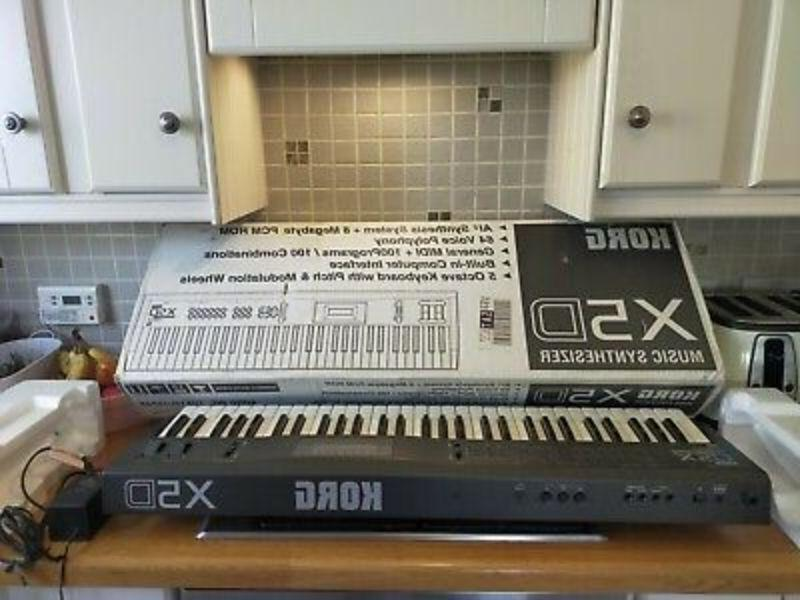synthesizer: (89, 404, 786, 526)
